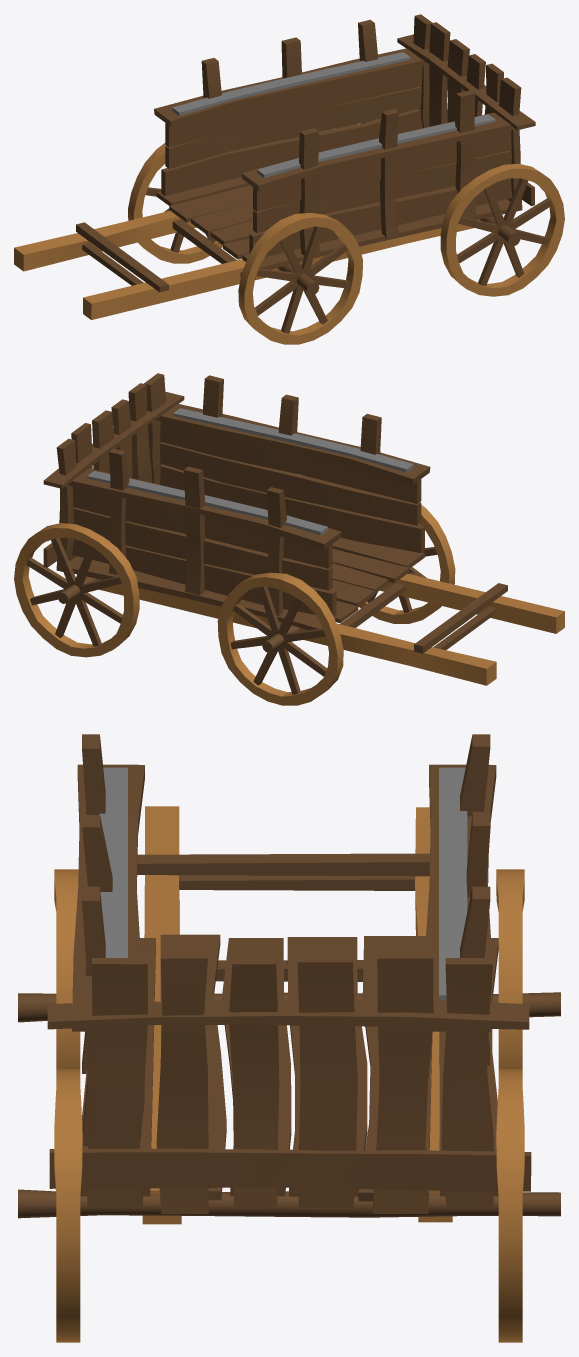
Rendered from SM_cart.fbx.
The picture shows the model from 3 angles, top to bottom: view 1: azimuth 30°, elevation 25°; view 2: azimuth 150°, elevation 25°; view 3: azimuth 270°, elevation 25°; orthographic projection. The views are drawn at different scales.
Visible parts, largest first — view 1: Object32280; view 2: Object32280; view 3: Object32280.
Part boxes in pixels (left/top/right/bottom): Object32280: left=14, top=14, right=564, bottom=344; Object32280: left=14, top=373, right=564, bottom=705; Object32280: left=18, top=734, right=560, bottom=1342.
Bounding box in the file's own units: 157 × 67.62 × 81.65.
